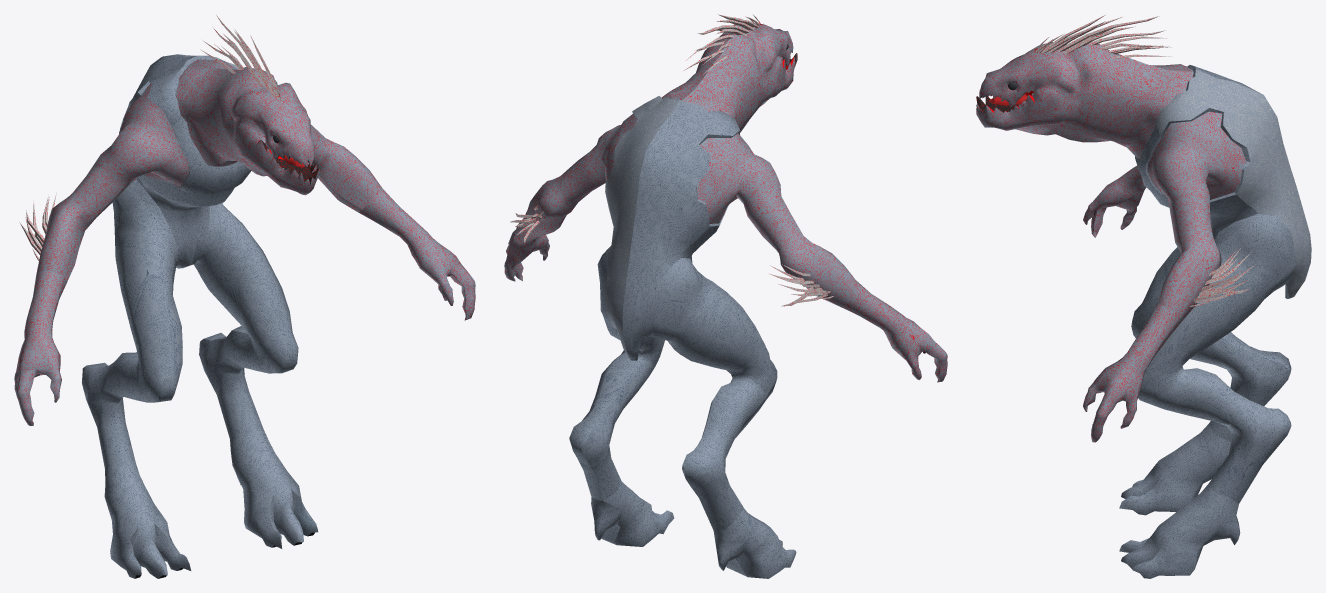
Rendered from bossAlien.dae.
3 views of the same model, side by side, from view 1: azimuth 30°, elevation 25°; view 2: azimuth 150°, elevation 25°; view 3: azimuth 270°, elevation 25° (orthographic). The views are drawn at different scales.
Parts seen in each view (by area): view 1: StormJackal.jackalbasev2.smd.mesh_1 (×8), StormJackal.jackalbasev2.smd.mesh_0 (×4); view 2: StormJackal.jackalbasev2.smd.mesh_1 (×6), StormJackal.jackalbasev2.smd.mesh_0 (×4); view 3: StormJackal.jackalbasev2.smd.mesh_1 (×6), StormJackal.jackalbasev2.smd.mesh_0 (×4).
Part boxes in pixels (<box>): StormJackal.jackalbasev2.smd.mesh_1 (×8): <box>82,54,317,578</box>; StormJackal.jackalbasev2.smd.mesh_0 (×4): <box>14,59,475,425</box>; StormJackal.jackalbasev2.smd.mesh_1 (×6): <box>569,96,796,578</box>; StormJackal.jackalbasev2.smd.mesh_0 (×4): <box>504,23,947,382</box>; StormJackal.jackalbasev2.smd.mesh_1 (×6): <box>1119,69,1311,578</box>; StormJackal.jackalbasev2.smd.mesh_0 (×4): <box>976,42,1245,442</box>.
Size of the model in its own units: 63.75 by 41.9 by 71.72.
